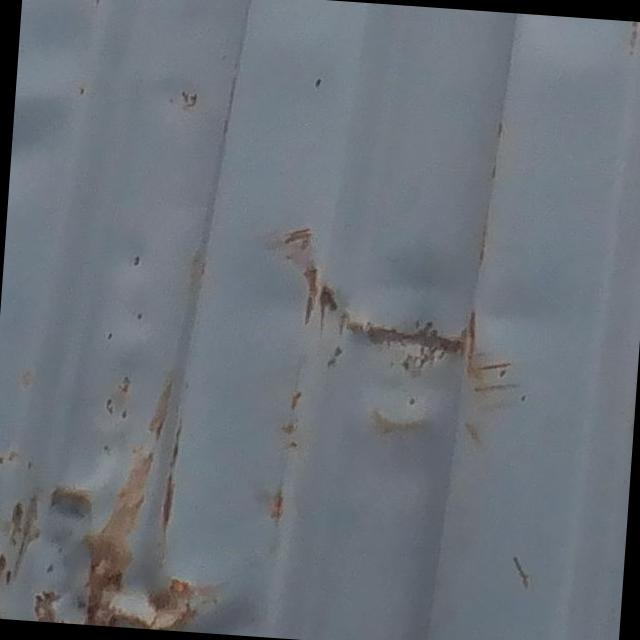Rust: (290, 259, 492, 436)
